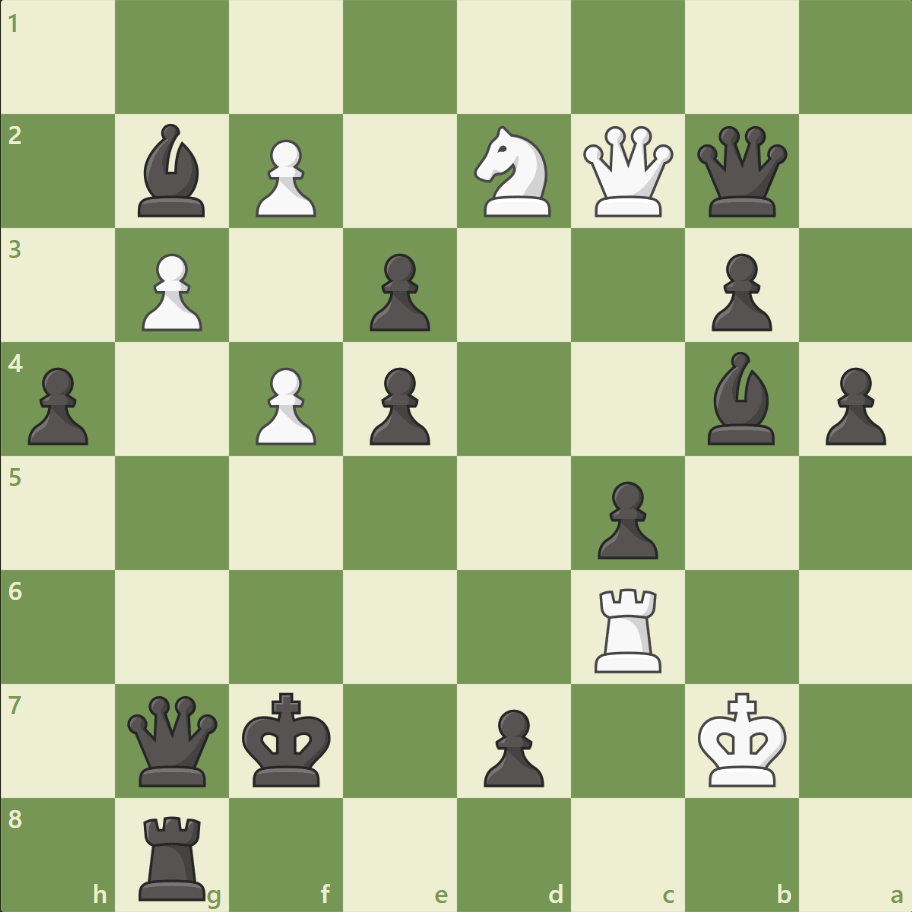K: (692, 685, 792, 793)
N: (465, 121, 562, 223)
P: (247, 359, 322, 450), (133, 246, 208, 337), (247, 132, 322, 223)
Q: (578, 122, 677, 222)
R: (587, 579, 670, 676)
b: (698, 347, 782, 449), (131, 120, 215, 222)
k: (238, 685, 338, 793)
p: (474, 700, 549, 791), (20, 359, 95, 450), (701, 246, 776, 337), (588, 473, 662, 564), (815, 359, 889, 450), (361, 359, 435, 450), (361, 246, 435, 337)
q: (691, 122, 790, 222), (124, 690, 223, 789)
r: (133, 806, 215, 904)
